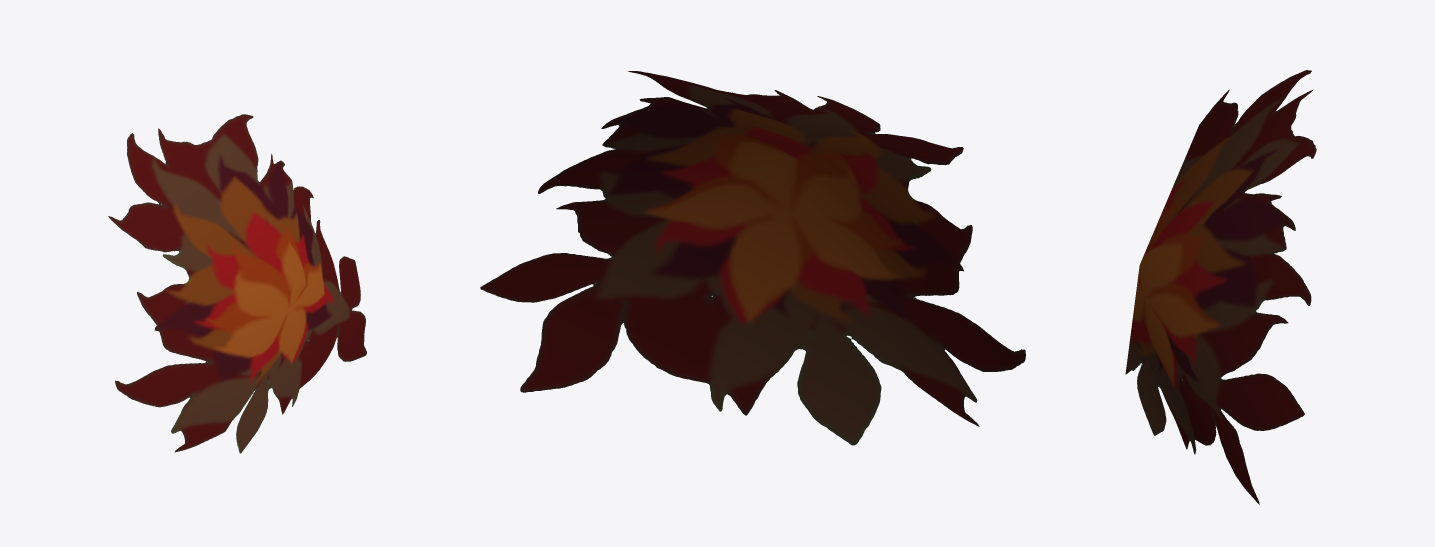
The picture shows the model from 3 angles, left to right: view 1: azimuth 30°, elevation 25°; view 2: azimuth 150°, elevation 25°; view 3: azimuth 270°, elevation 25°; orthographic projection. The views are drawn at different scales.
Parts seen in each view (by area): view 1: Plane1017; view 2: Plane1017; view 3: Plane1017.
Boxes of the visible parts, x1,y1,x2,y2 form: Plane1017: (108,114,366,453); Plane1017: (480,71,1025,445); Plane1017: (1125,70,1316,504).
Bounding box in the file's own units: 0.1806 × 0.1626 × 0.0984.
